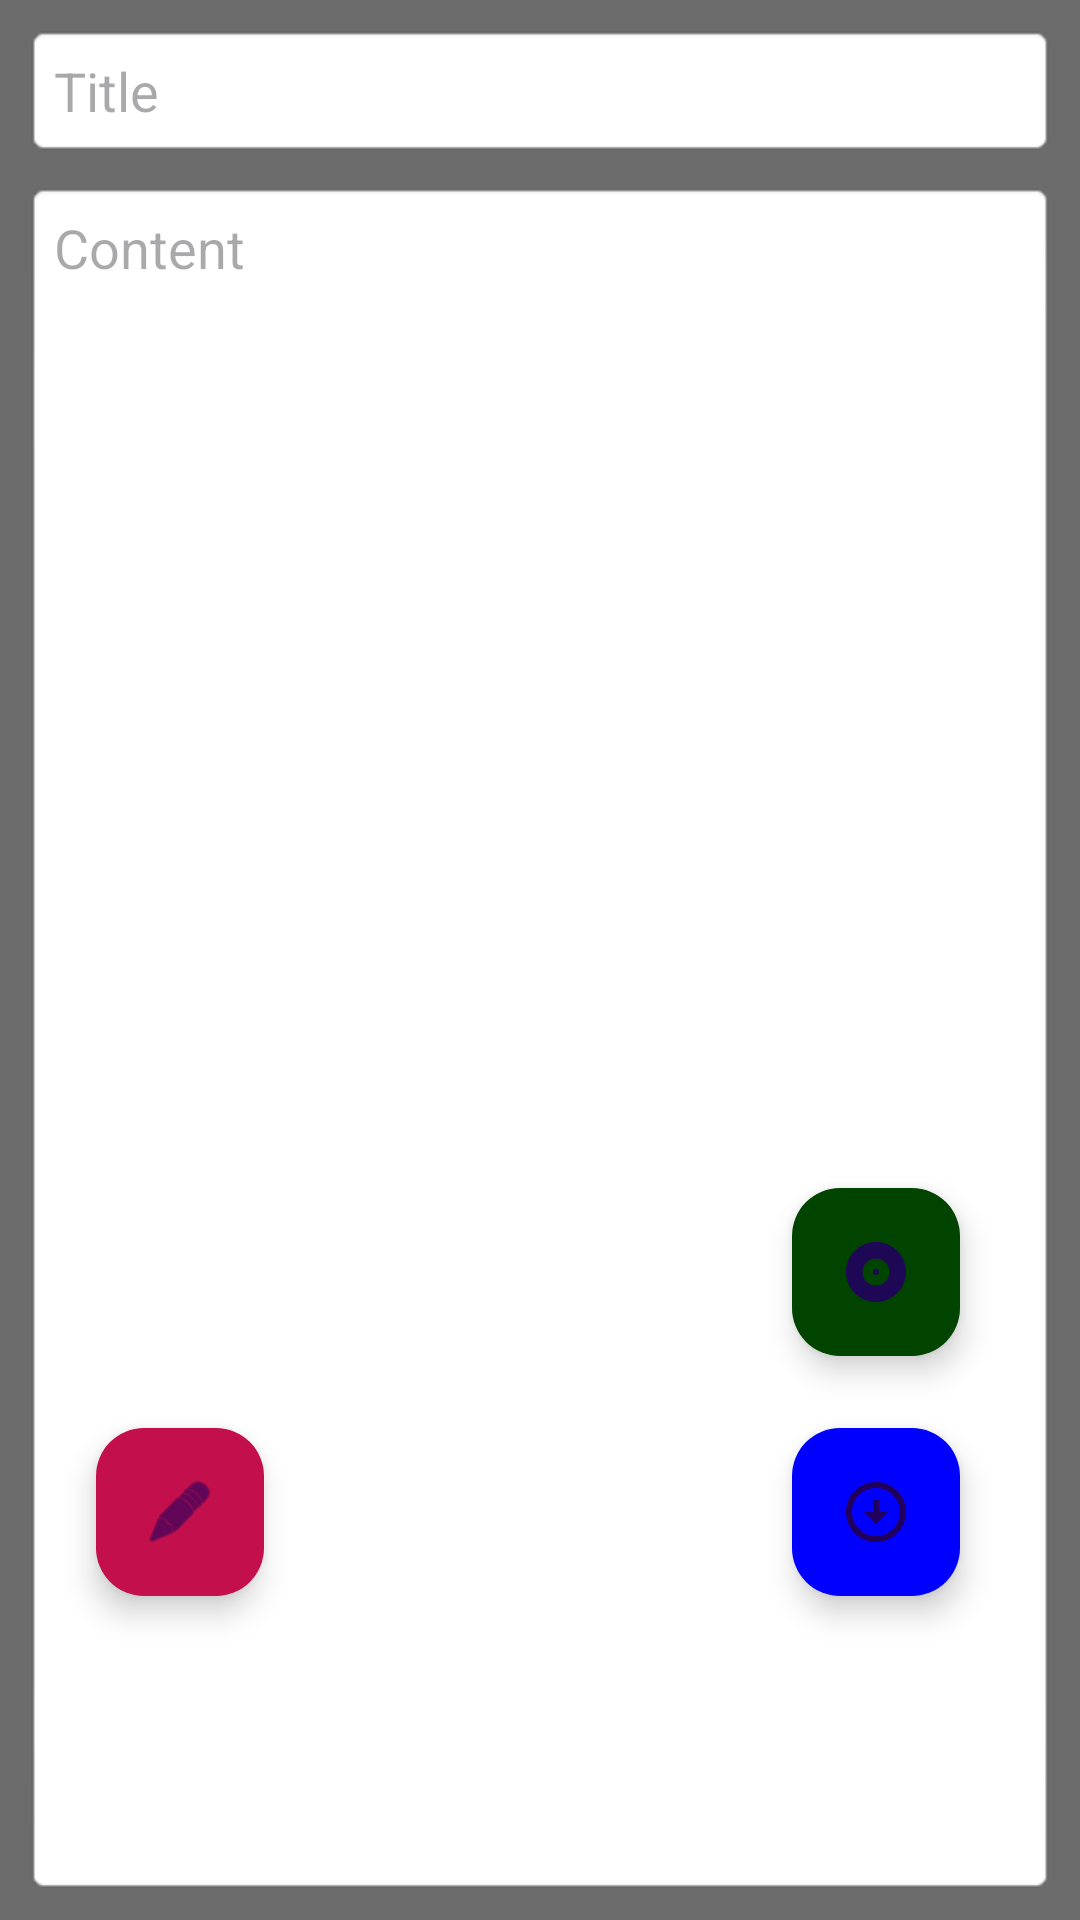

Icons on this 1080x1920 Android screen, each with the point to tap as (x,y):
edit: (180,1512)
save: (876,1512)
